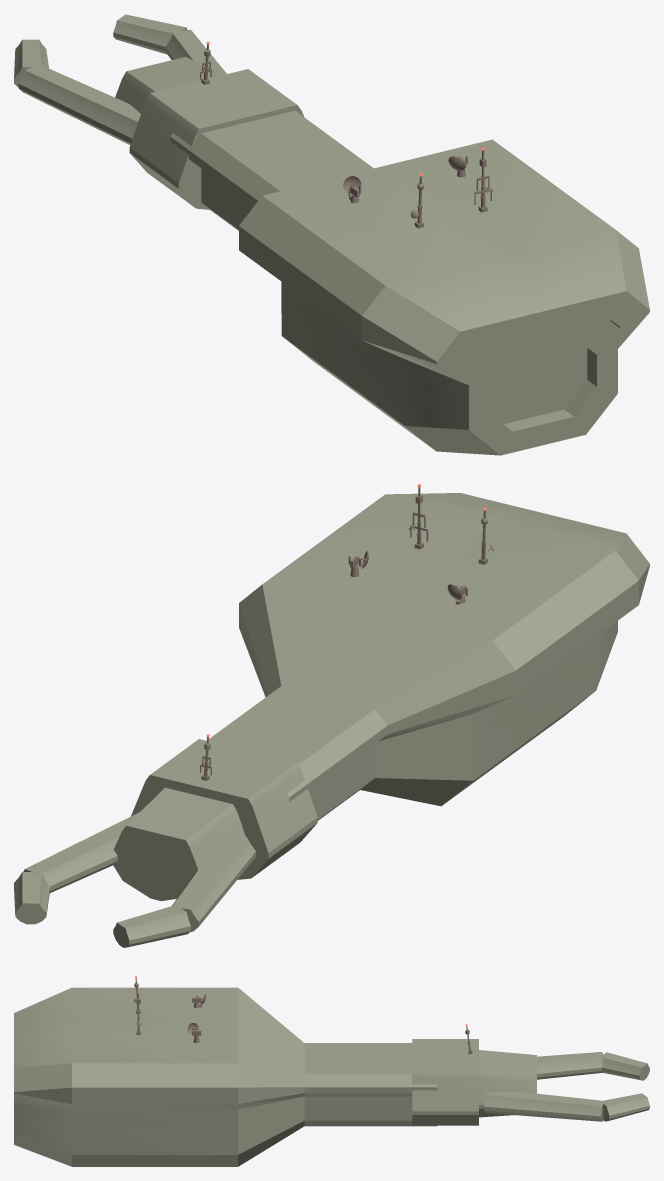
File: vos_boarder.glb
The picture shows the model from 3 angles, top to bottom: view 1: azimuth 30°, elevation 25°; view 2: azimuth 150°, elevation 25°; view 3: azimuth 270°, elevation 25°; orthographic projection. The views are drawn at different scales.
Parts seen in each view (by area): view 1: hull_hull, hull_metal_4a3a30; view 2: hull_hull, hull_metal_4a3a30; view 3: hull_hull, hull_metal_4a3a30.
Boxes of the visible parts, <box> form: hull_hull: <box>14,14,649,455</box>; hull_metal_4a3a30: <box>199,44,492,228</box>; hull_hull: <box>14,493,649,947</box>; hull_metal_4a3a30: <box>199,486,493,780</box>; hull_hull: <box>14,987,649,1166</box>; hull_metal_4a3a30: <box>133,978,472,1054</box>.
Size of the model in its own units: 52 by 43.82 by 153.
